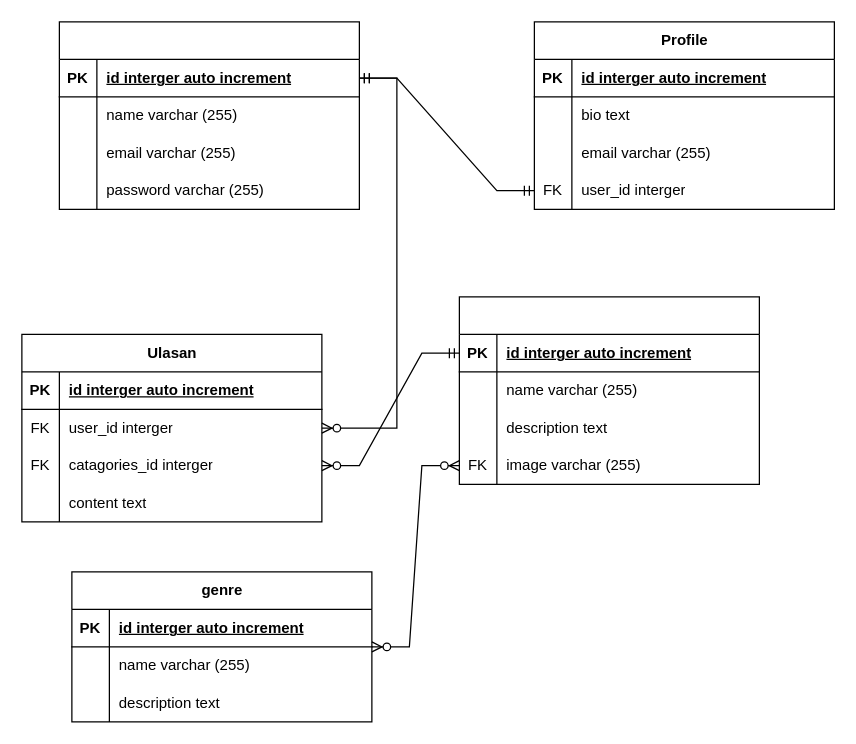
Image size: 856x744. Some labels were removed from this diagram. The shapes that lost their labels are listed below. From the top down, each one's box as (x1, y1, x2, y2) in pixels, then its label:
(58, 21, 359, 209): User
(458, 296, 759, 484): catagories
